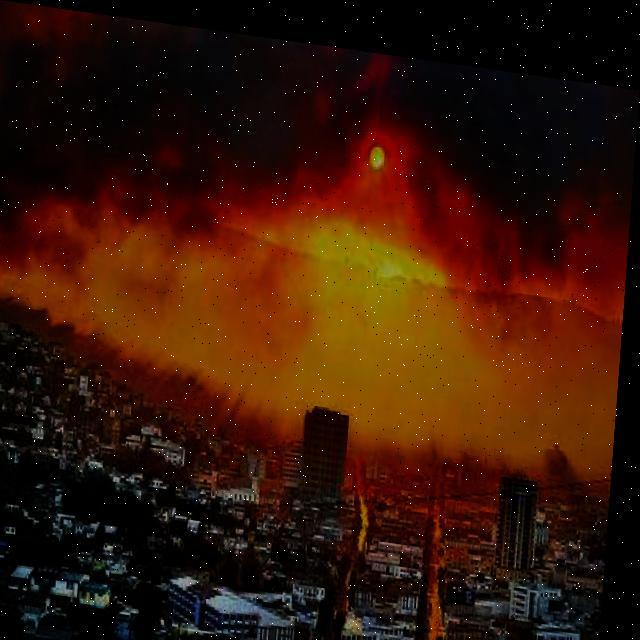Fire: (0, 226, 626, 452)
